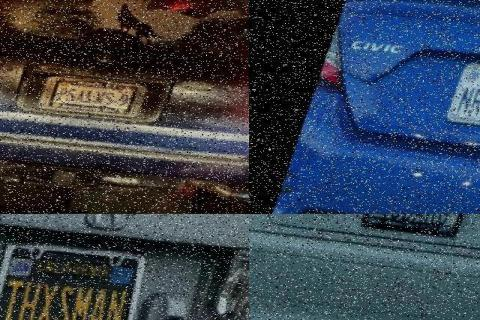LicensePlate: (0, 236, 158, 320), (359, 214, 475, 252), (440, 57, 480, 144), (45, 80, 136, 118)
